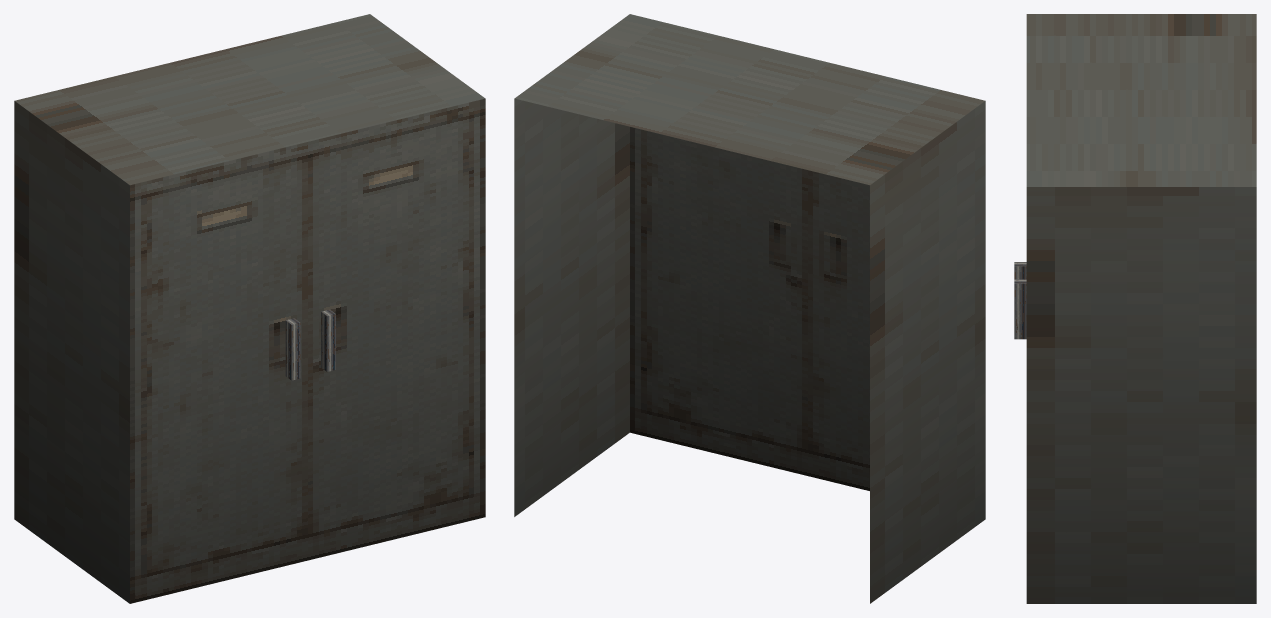
File: prop_cabinet-3.glb
3 renders of one model, left to right at view 1: azimuth 30°, elevation 25°; view 2: azimuth 150°, elevation 25°; view 3: azimuth 270°, elevation 25°, orthographic.
Visible parts, largest first — view 1: prop_cabinet-3; view 2: prop_cabinet-3; view 3: prop_cabinet-3.
Part boxes in pixels (x1,y1,x2,y2): prop_cabinet-3: [14, 14, 485, 603]; prop_cabinet-3: [514, 14, 985, 603]; prop_cabinet-3: [1014, 14, 1256, 603].
Size of the model in its own units: 0.8 by 0.9 by 0.474.
Materials: 2 (2 with a texture image).
